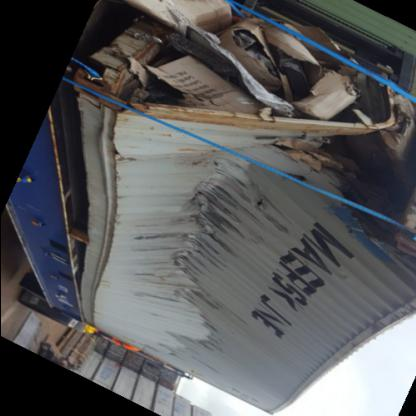Damage: (69, 4, 402, 382)
